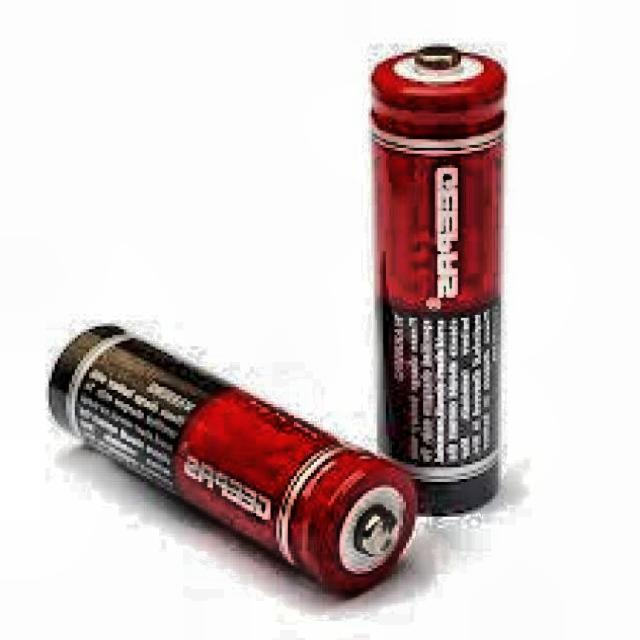battery: (48, 323, 420, 599), (372, 44, 507, 516)
